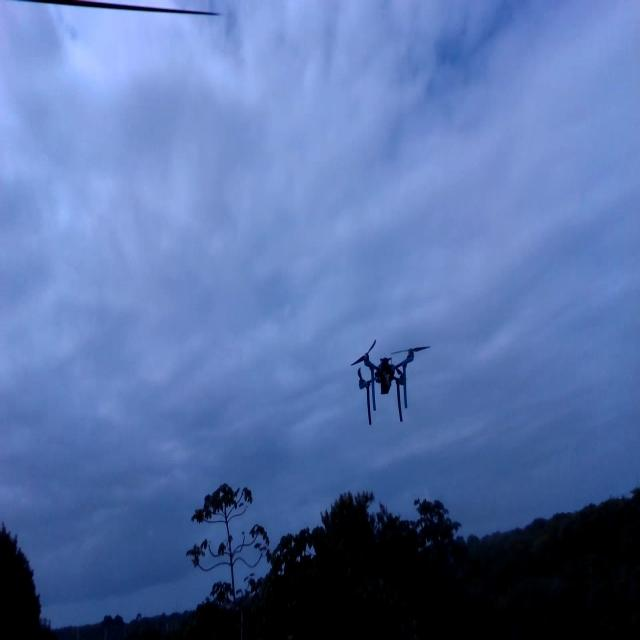-uav-: (342, 330, 433, 421)
